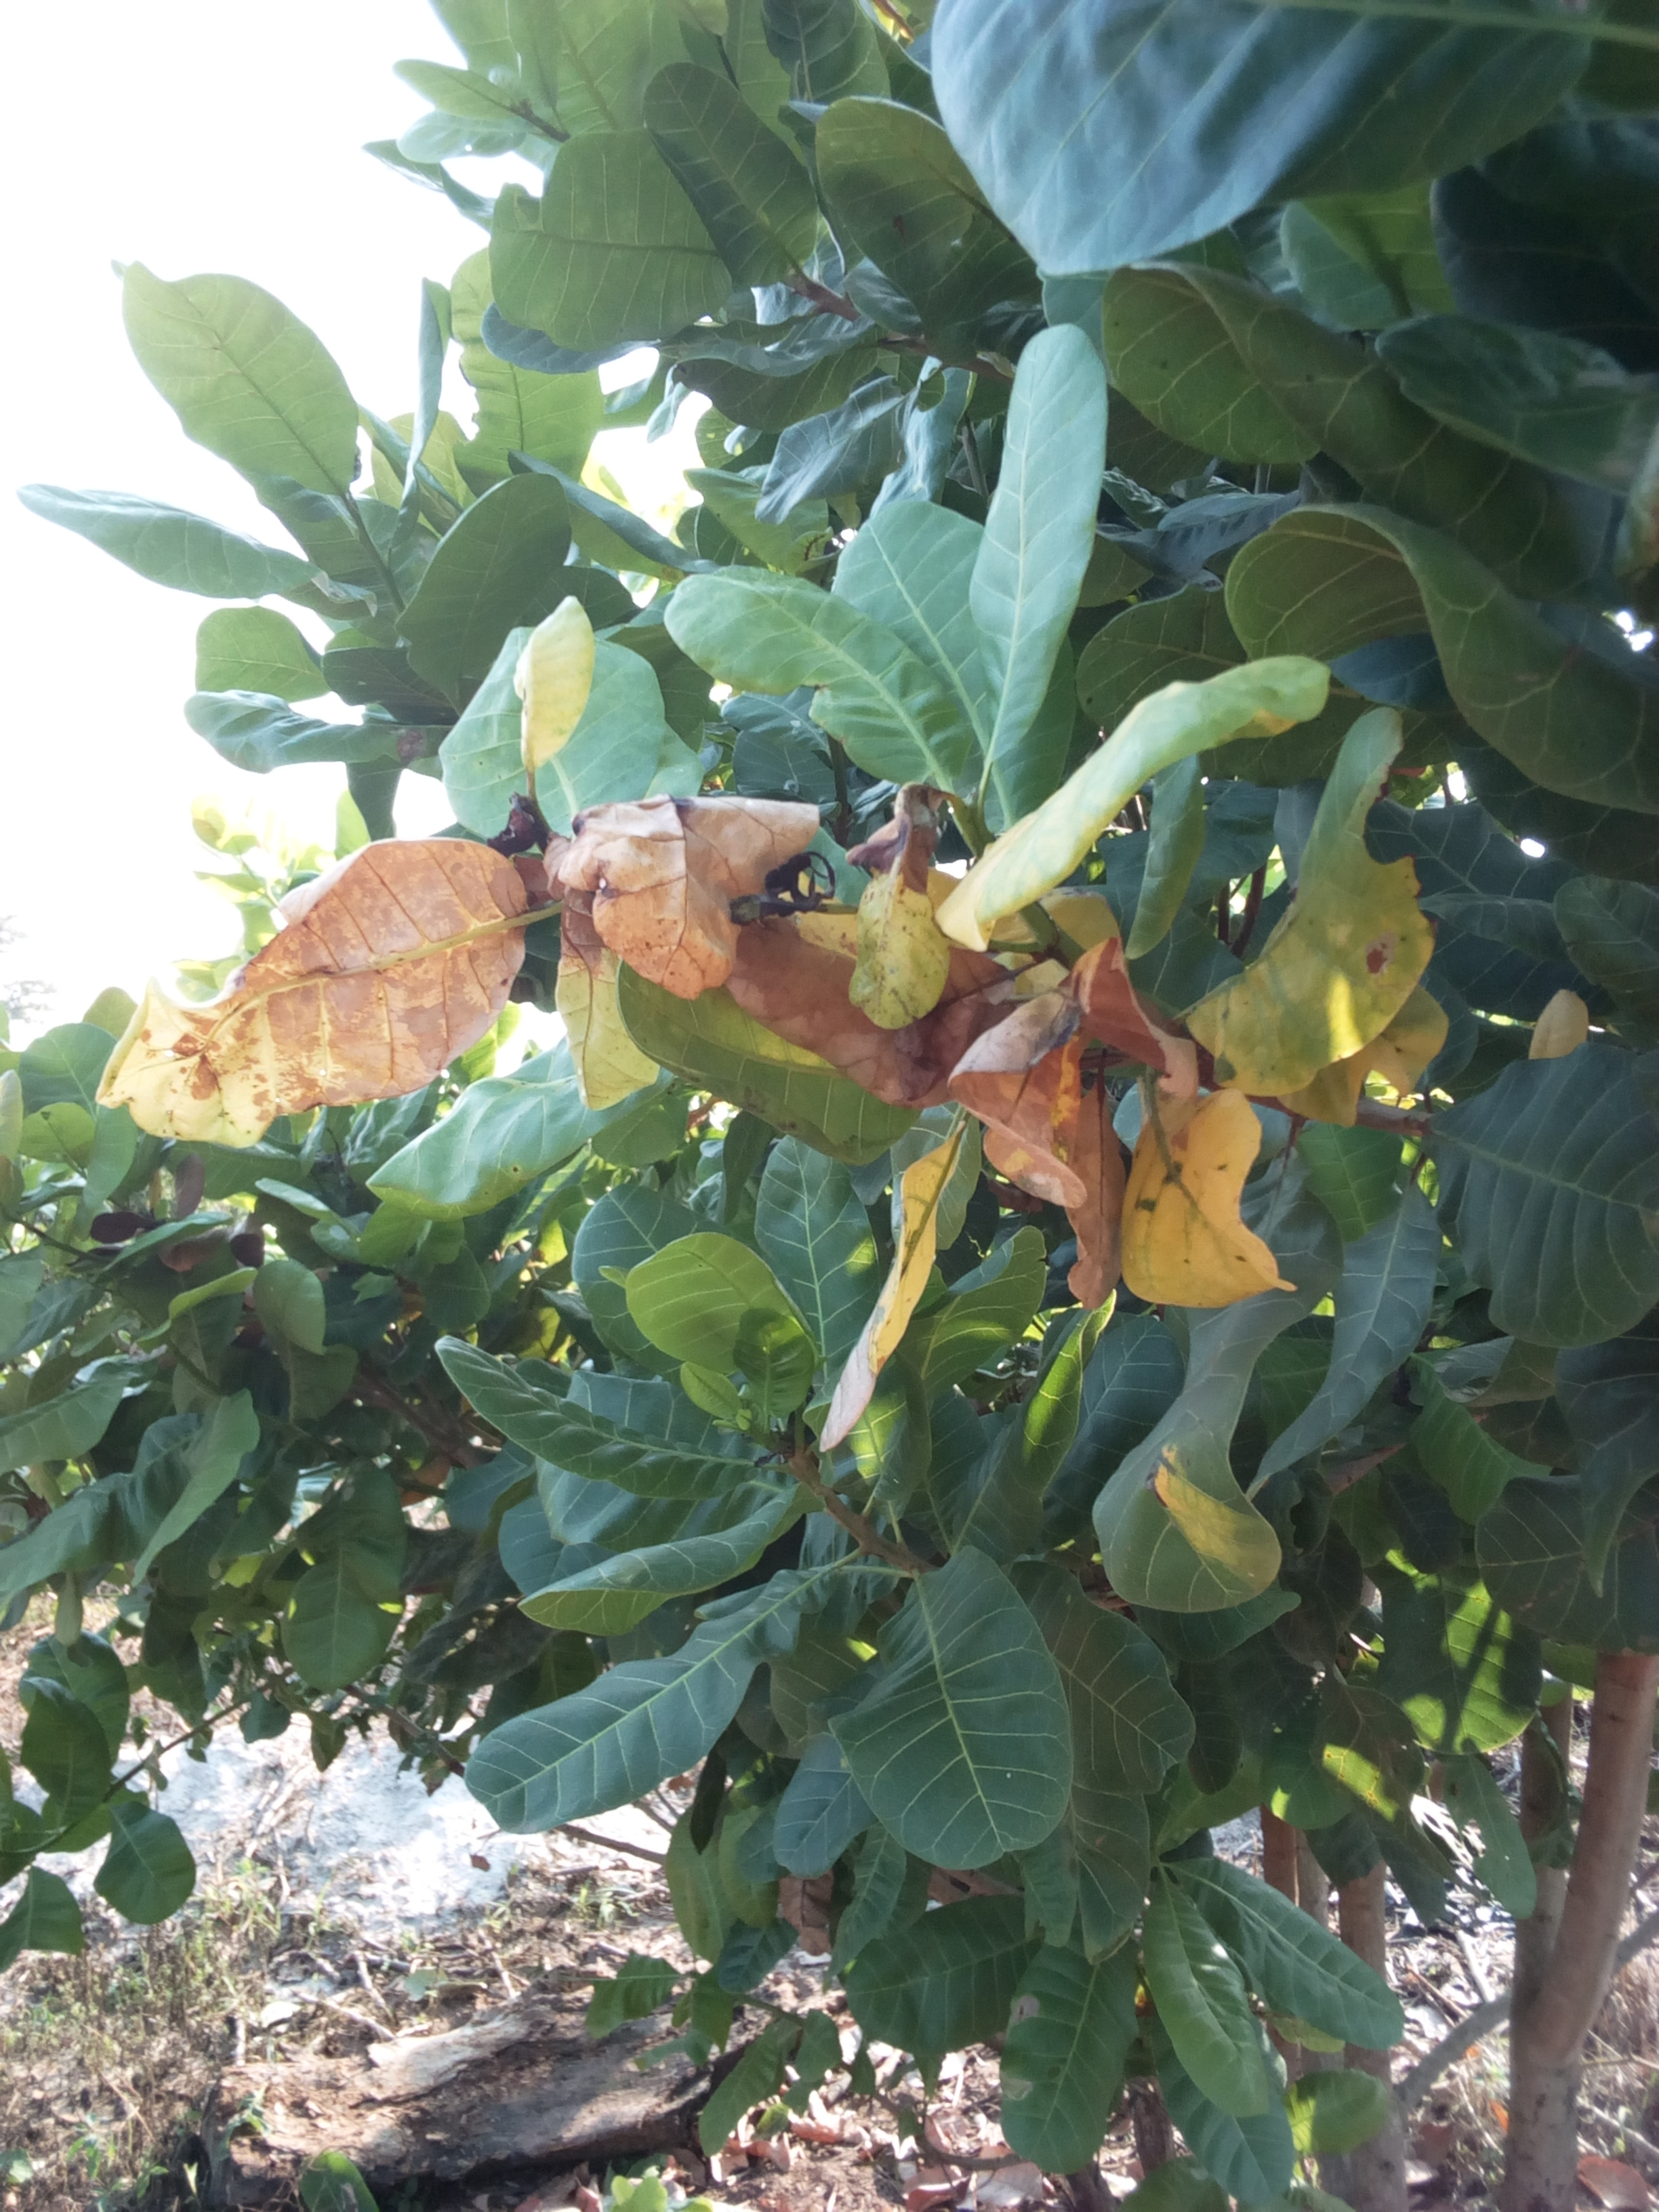Dessèchement des bourgeons: (495, 798, 843, 988)
